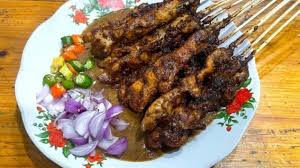Sate ayam/100g: (84, 3, 300, 153)
